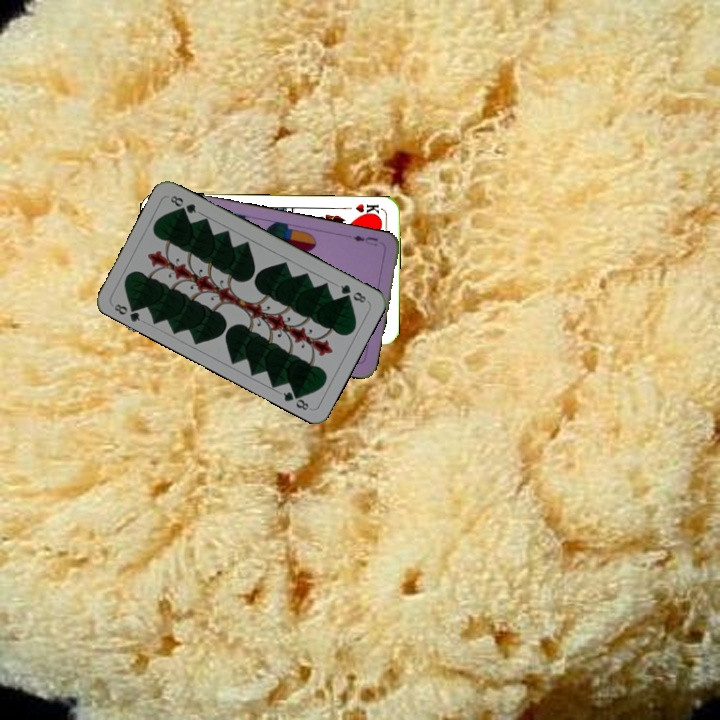EU: (349, 231, 380, 248)
G8: (336, 280, 369, 305), (110, 299, 143, 324)
HK: (352, 200, 382, 219)
